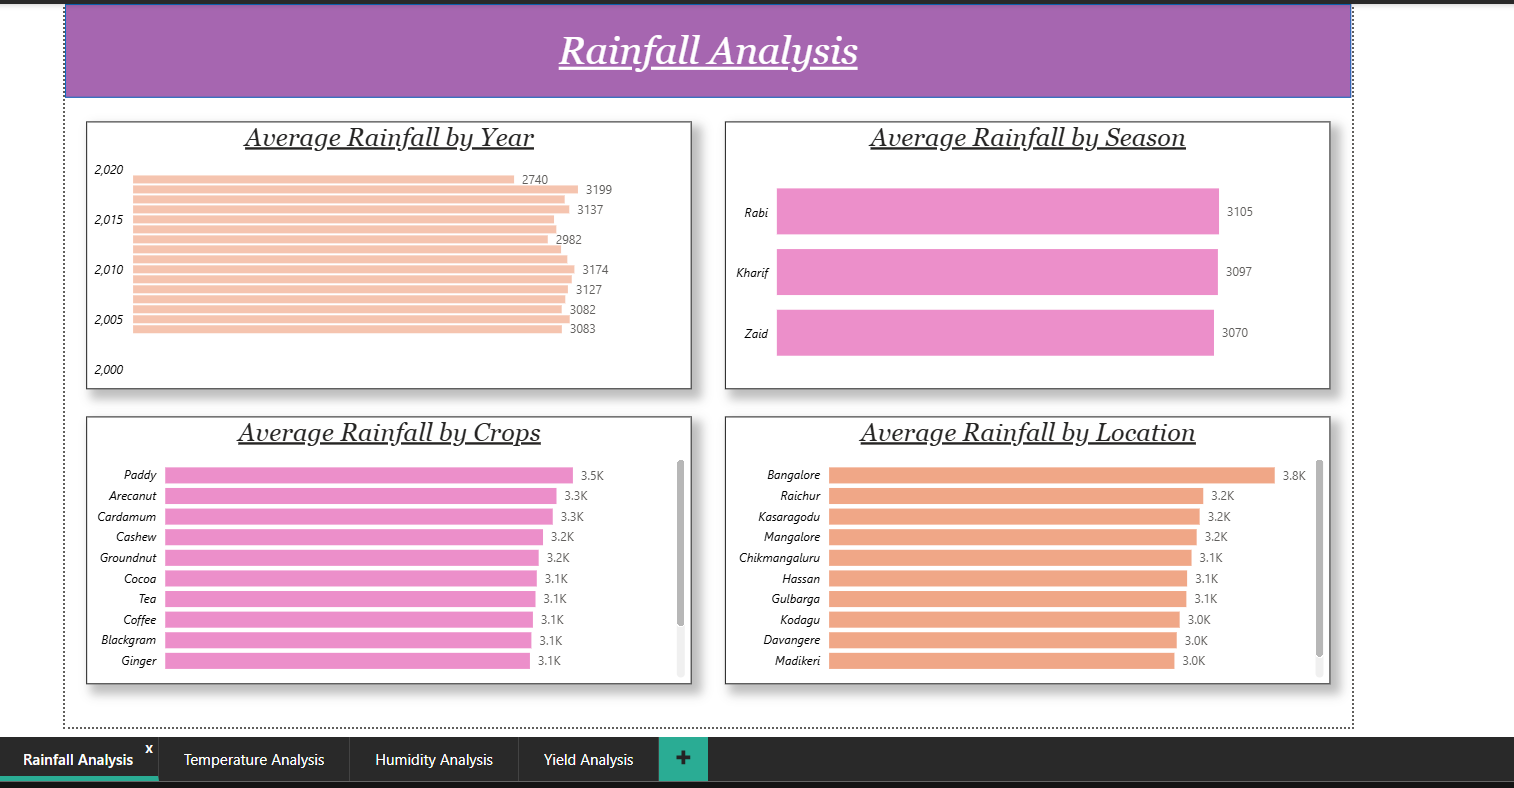

What the dashboard file says about the page in this screenshot:
{"tool":"powerbi","page":{"name":"Rainfall Analysis","canvas":[1280,720],"ordinal":0},"visuals":[{"type":"shape","box":[0,0,1280,93.3],"z":0},{"type":"barChart","title":"Average Rainfall by Year","fields":{"Y":["Avg(AGRICULTURE.RAINFALL)"],"Category":["AGRICULTURE.YEAR"]},"box":[21.1,116.9,602.1,266.2],"z":1},{"type":"barChart","title":"Average Rainfall by Season","fields":{"Y":["Avg(AGRICULTURE.RAINFALL)"],"Category":["AGRICULTURE.SEASON"]},"box":[656.8,116.9,602.1,266.2],"z":2},{"type":"barChart","title":"Average Rainfall by Crops","fields":{"Y":["Avg(AGRICULTURE.RAINFALL)"],"Category":["AGRICULTURE.CROPS"]},"box":[21.1,410.5,602.1,266.2],"z":3},{"type":"barChart","title":"Average Rainfall by Location","fields":{"Y":["Avg(AGRICULTURE.RAINFALL)"],"Category":["AGRICULTURE.LOCATION"]},"box":[656.8,410.5,602.1,266.2],"z":4}]}

Visuals, with their boxes on the page's 1280x720 design canvas (x1, y1, x2, y2). These are canvas units, not pixel positions in the 1514x788 screenshot, which may show the page scaled, cropped or inside an application window:
shape: 0, 0, 1280, 93
"Average Rainfall by Year" barChart: 21, 117, 623, 383
"Average Rainfall by Season" barChart: 657, 117, 1259, 383
"Average Rainfall by Crops" barChart: 21, 410, 623, 677
"Average Rainfall by Location" barChart: 657, 410, 1259, 677
